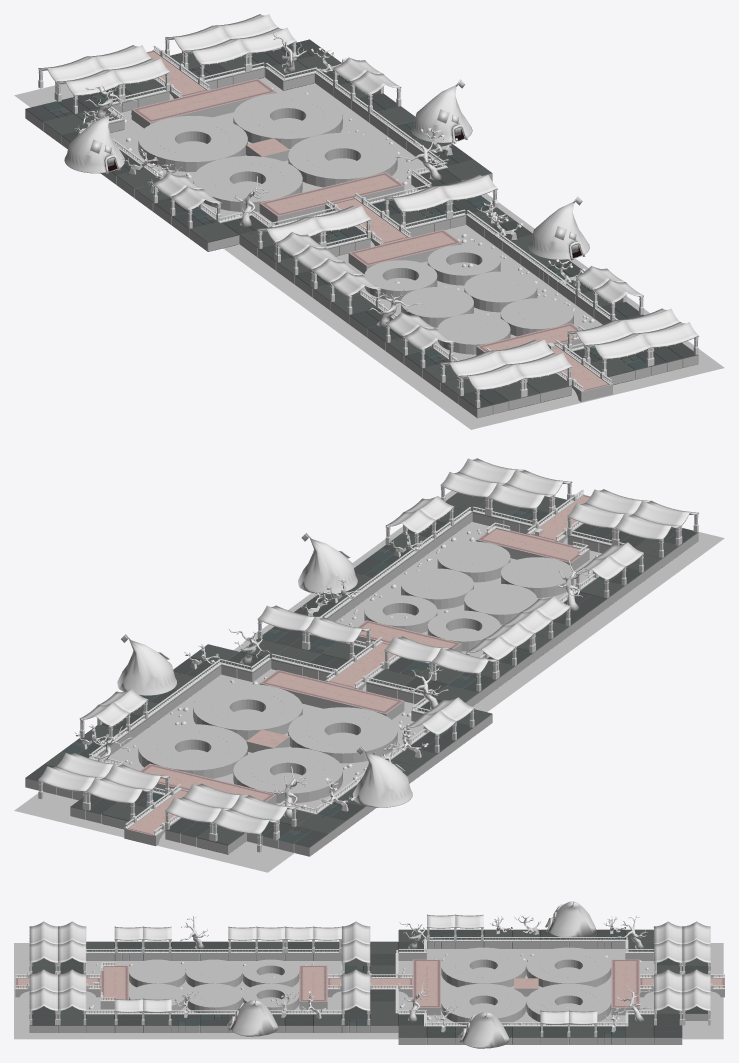
Rendered from lvl14_world1.fbx.
3 renders of one model, top to bottom at view 1: azimuth 30°, elevation 25°; view 2: azimuth 150°, elevation 25°; view 3: azimuth 270°, elevation 25°, orthographic. The views are drawn at different scales.
Visible parts, largest first — view 1: Cube.2133, Cube.2152, Plane.121, tent.002, Cube.2142, tree1.001, Cube.2113, Cylinder.069, Cube.2123, Cylinder.067, Cylinder.071, Cylinder.065 (+16 smaller); view 2: Cube.2133, Cube.2152, Plane.121, tent.002, Cube.2142, tree1.001, Cube.2113, Cylinder.065, Cylinder.069, Cylinder.071, Cylinder.067, Cube.2100 (+16 smaller); view 3: Cube.2133, Cube.2152, Plane.121, Cube.2142, tent.002, tree1.001, Cylinder.069, Cylinder.065, Cylinder.067, Cube.2113, Cube.2123, Cylinder.071 (+22 smaller).
Part boxes in pixels (box(x1,y1,x2,y2)): Cube.2133: box(25, 39, 698, 418); Cube.2152: box(38, 14, 699, 408); Plane.121: box(14, 77, 724, 429); tent.002: box(64, 79, 589, 260); Cube.2142: box(93, 62, 617, 361); tree1.001: box(75, 33, 585, 326); Cube.2113: box(259, 172, 404, 224); Cylinder.069: box(138, 116, 247, 171); Cube.2123: box(131, 78, 276, 128); Cylinder.067: box(288, 133, 397, 187); Cylinder.071: box(233, 92, 342, 148); Cylinder.065: box(193, 156, 302, 211); Cube.2133: box(25, 492, 698, 856); Cube.2152: box(38, 458, 699, 852); Plane.121: box(14, 490, 724, 872); tent.002: box(117, 533, 412, 807); Cube.2142: box(89, 506, 631, 814); tree1.001: box(74, 531, 590, 818); Cube.2113: box(259, 670, 404, 719); Cylinder.065: box(288, 707, 397, 763); Cylinder.069: box(233, 747, 342, 803); Cylinder.071: box(138, 724, 247, 778); Cylinder.067: box(193, 684, 302, 740); Cube.2100: box(476, 528, 589, 570); Cube.2133: box(29, 929, 710, 1044); Cube.2152: box(29, 914, 710, 1037); Plane.121: box(14, 943, 723, 1039); Cube.2142: box(83, 936, 656, 1026); tent.002: box(227, 901, 596, 1048); tree1.001: box(175, 915, 651, 1032); Cylinder.069: box(526, 947, 611, 987); Cylinder.065: box(441, 947, 526, 987); Cylinder.067: box(441, 983, 526, 1024); Cube.2113: box(412, 959, 440, 1015); Cube.2123: box(611, 959, 639, 1015); Cylinder.071: box(526, 983, 611, 1024).
Bounding box in the file's own units: 21667 × 3747 × 50100.
